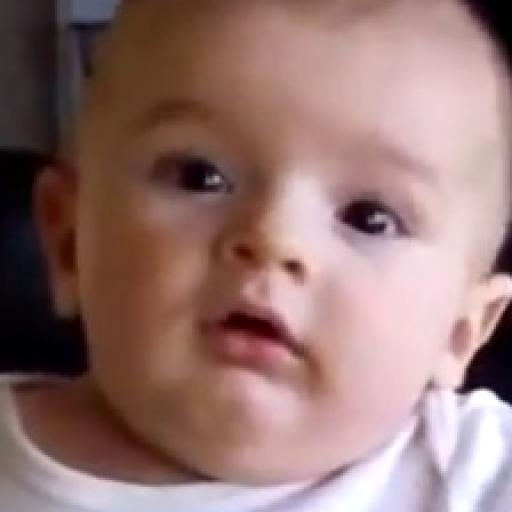Autism: (95, 47, 512, 512)
